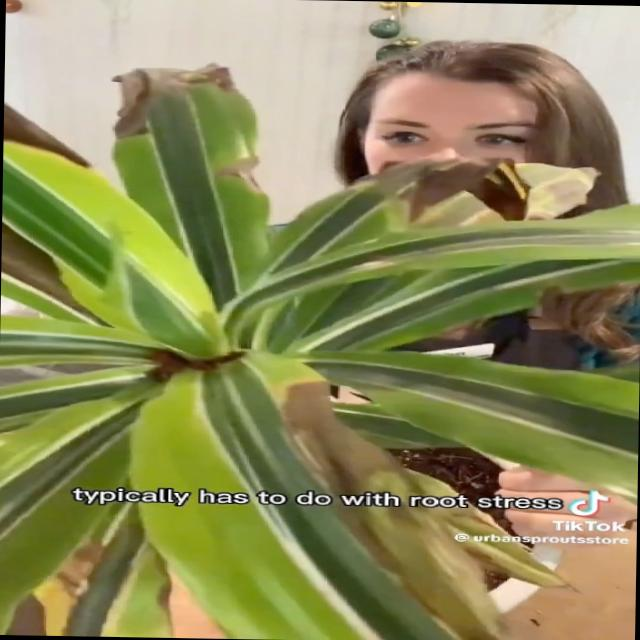lisc_suchy: (245, 355, 584, 640), (1, 98, 188, 340), (110, 62, 272, 213), (300, 158, 529, 251), (8, 546, 102, 635), (513, 162, 605, 220)
roslina_sucha: (0, 61, 640, 640)
